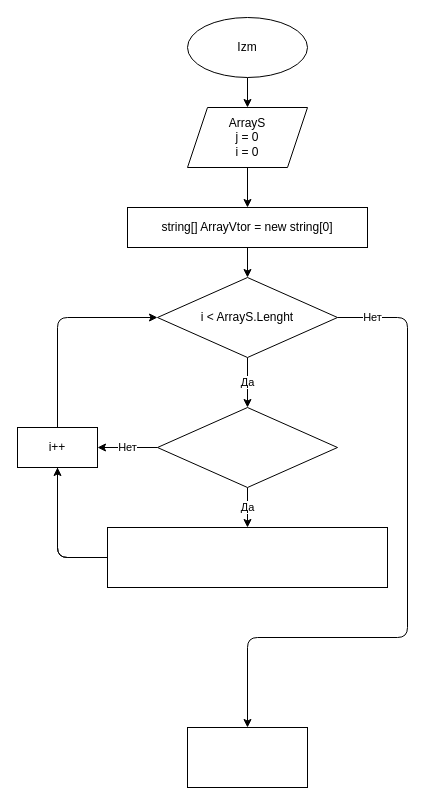
The diagram is 433 pixels wide and 805 high, and some of its shapes have lost their labels. Each missing label, with the box of its shape:
Array.Resize (def ArrayVtor, ArrayVtor.Lenght+1) ArrayVtof[j] = ArrayS[i] j++: (106, 526, 388, 588)
ArrayS[i].Lenght <= 3: (156, 406, 338, 488)
return ArrayVtor: (186, 726, 308, 788)
